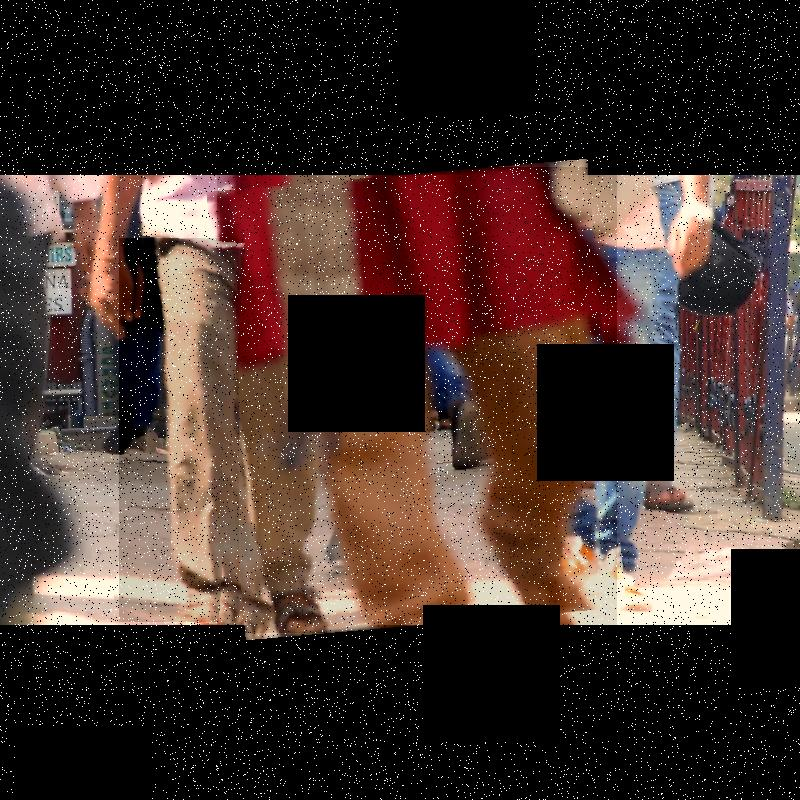Churidaar: (217, 167, 617, 633)
Pant: (119, 238, 239, 622)
